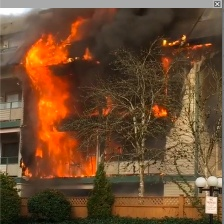fire: (19, 34, 98, 178), (103, 99, 180, 122), (160, 36, 214, 55)
smoke: (11, 8, 220, 42)
